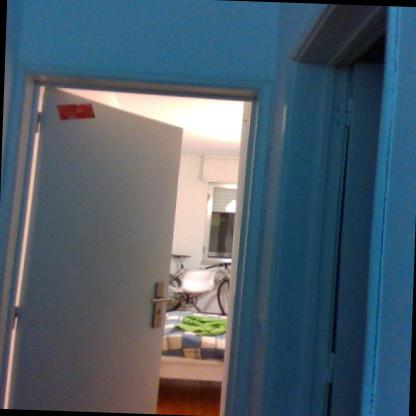semi: (8, 69, 265, 415)
